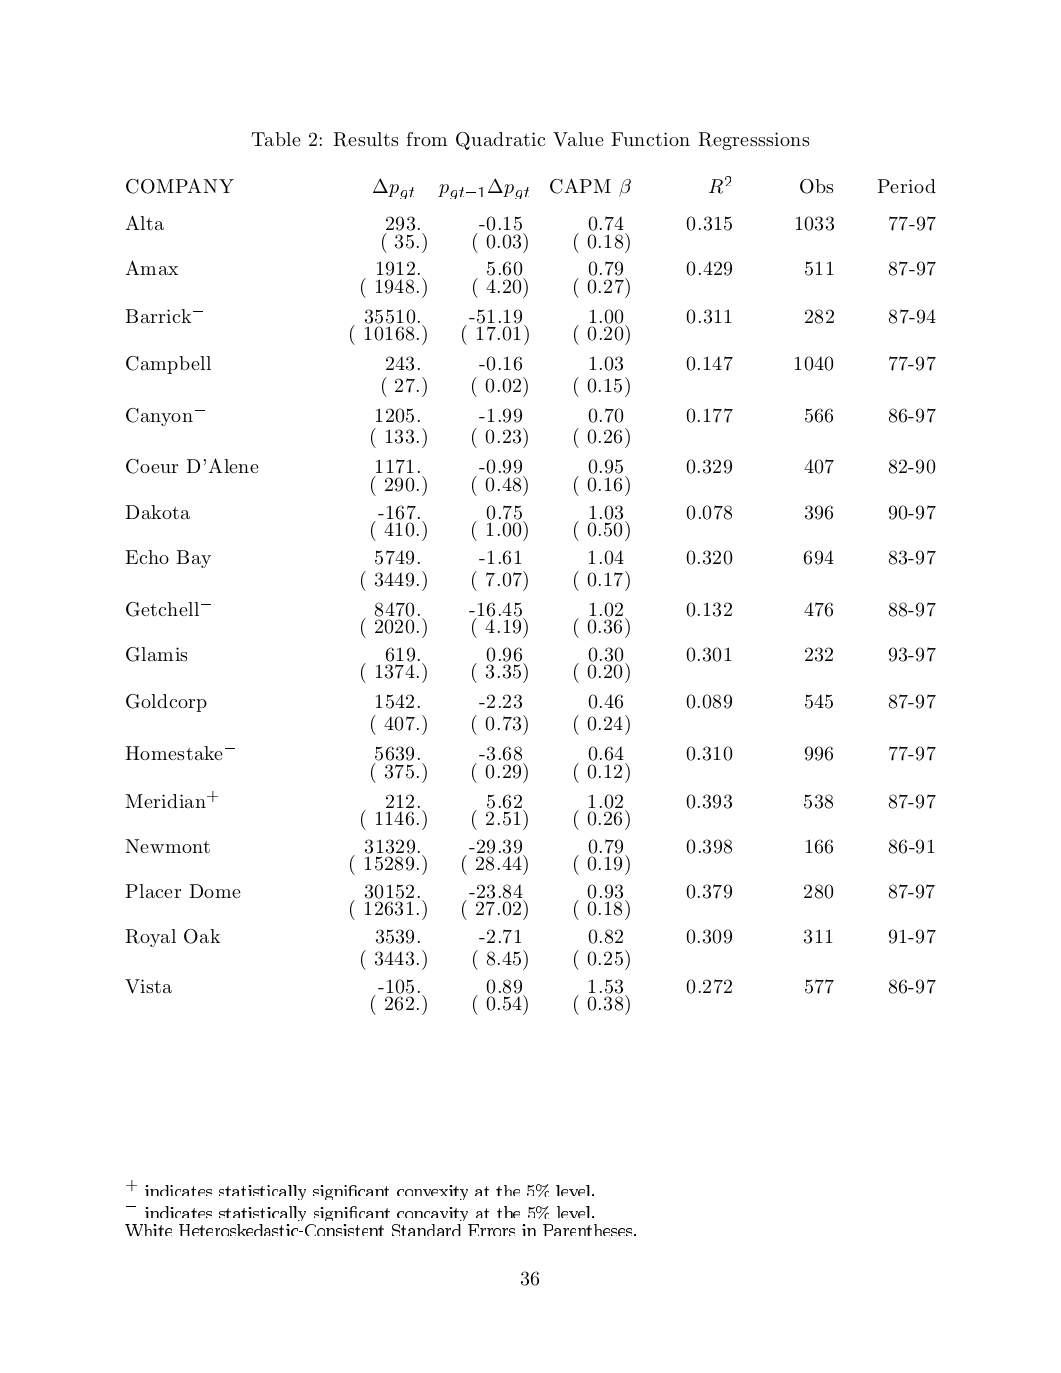Table: (125, 176, 935, 1014)
